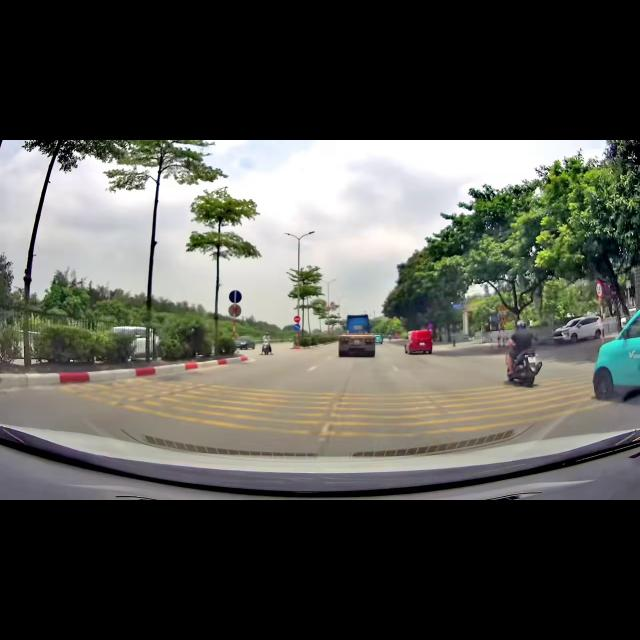car: (593, 313, 639, 399), (553, 316, 602, 342), (405, 330, 432, 354), (235, 337, 255, 349), (374, 334, 384, 344)
motorcycle: (507, 349, 542, 386), (261, 341, 271, 354)
truck: (339, 314, 375, 356)
